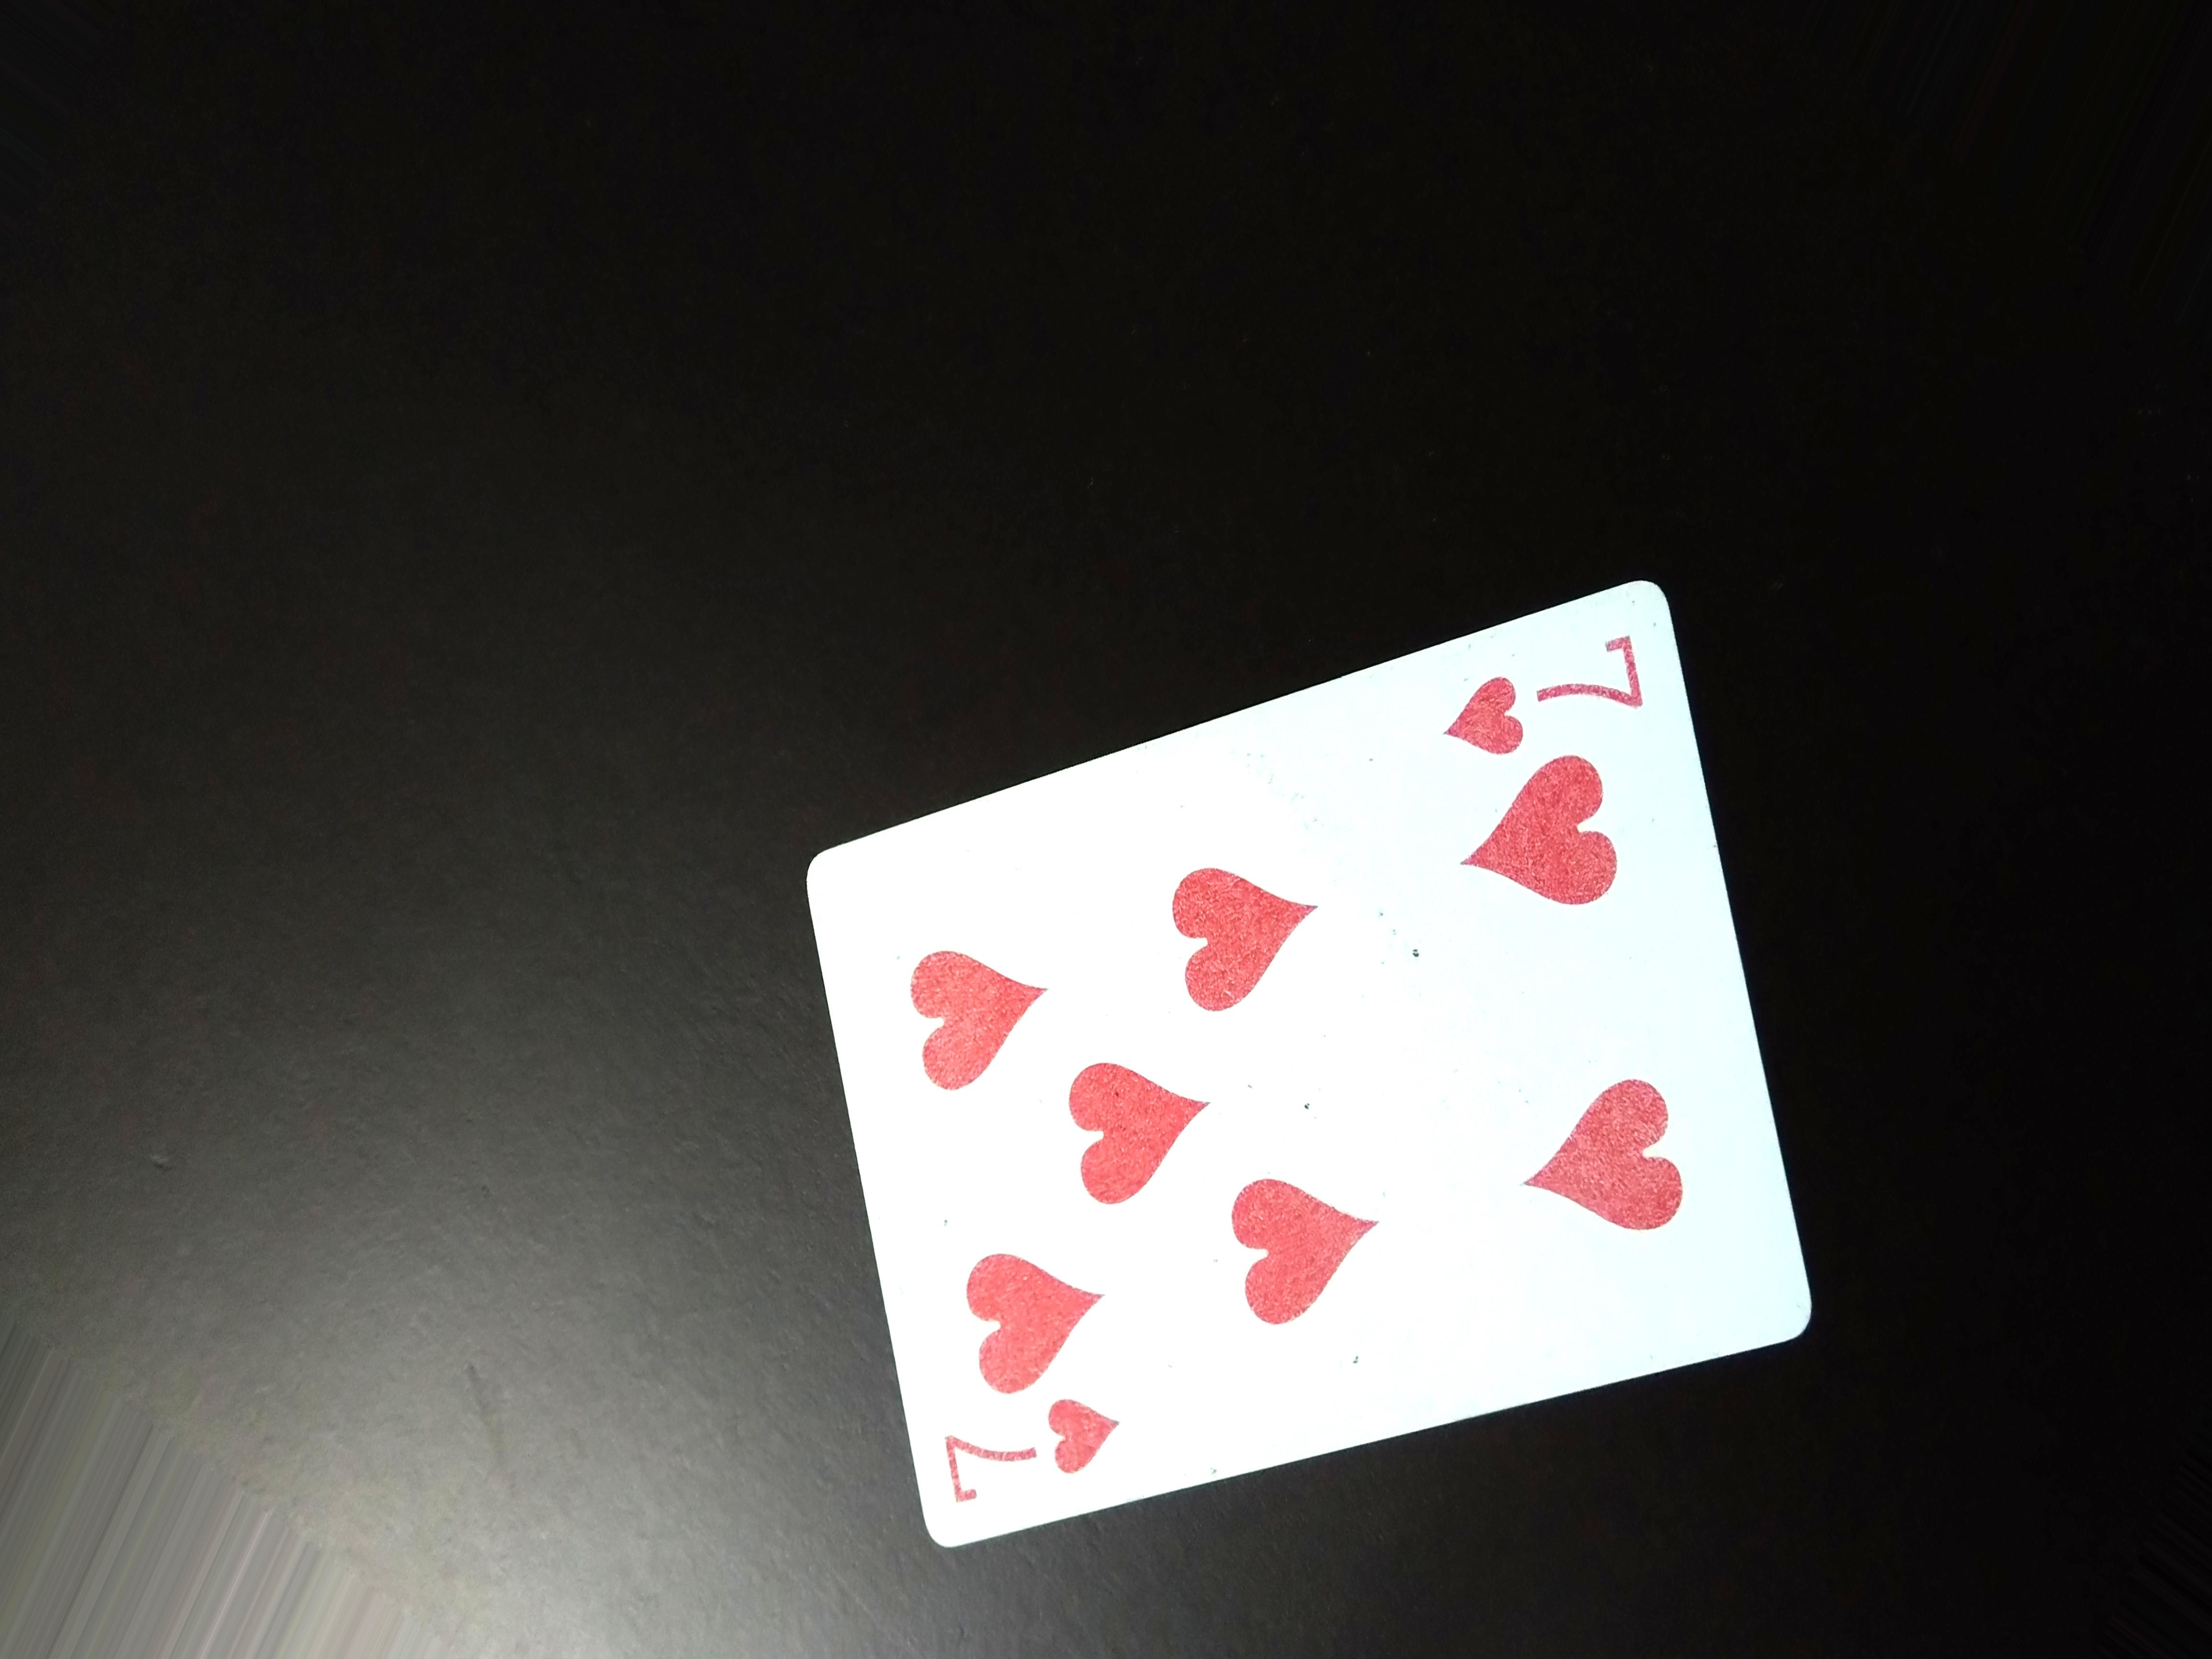7H: (914, 1392, 1155, 1514)
